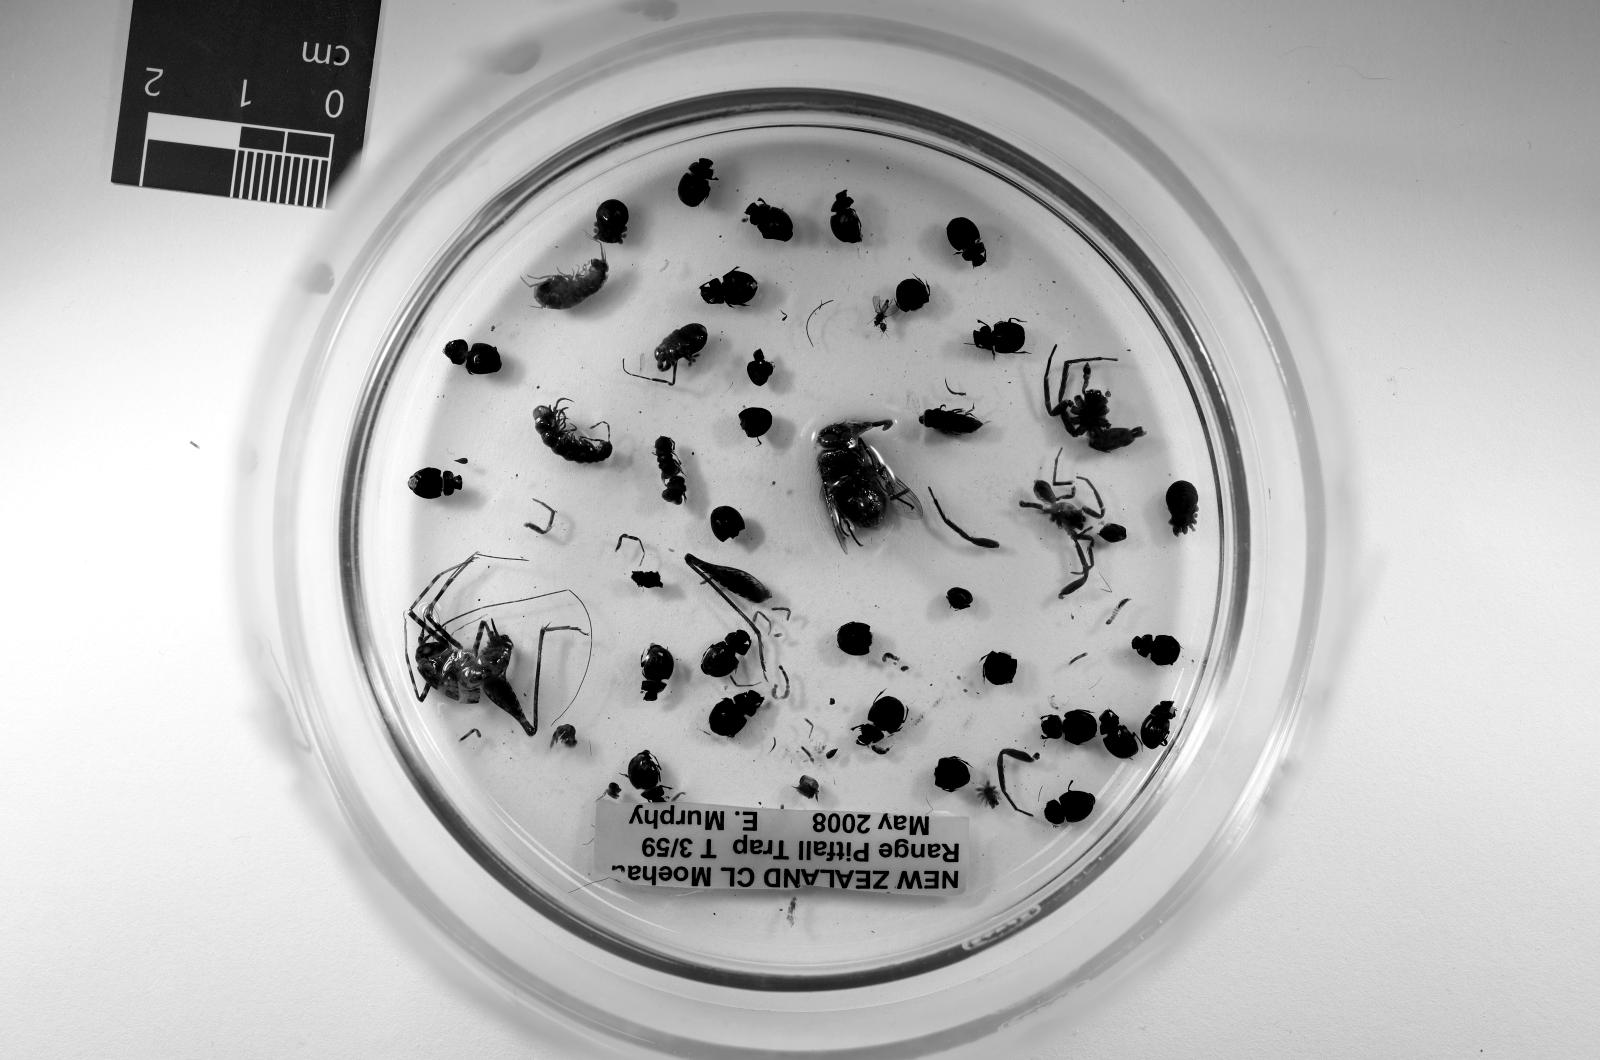acari: (878, 323, 890, 338)
amphipoda: (522, 258, 609, 311)
araneae: (1019, 457, 1103, 596), (1044, 354, 1144, 453)
coleoptera: (709, 689, 762, 739), (700, 630, 753, 677), (856, 696, 906, 745), (700, 267, 759, 307), (444, 338, 500, 376), (947, 217, 988, 267), (747, 199, 794, 242), (628, 752, 666, 804), (1041, 711, 1097, 745), (641, 646, 675, 702), (678, 158, 716, 208), (1044, 789, 1094, 826), (919, 407, 984, 435), (972, 320, 1025, 354), (1100, 711, 1138, 758), (831, 189, 862, 242), (406, 469, 462, 497), (1141, 702, 1175, 748), (1131, 634, 1181, 665)
diptera: (816, 419, 922, 550), (872, 295, 900, 328)
opiliones: (650, 323, 706, 385), (1166, 481, 1197, 537), (594, 199, 628, 245)
orthoptera: (406, 553, 588, 736)
